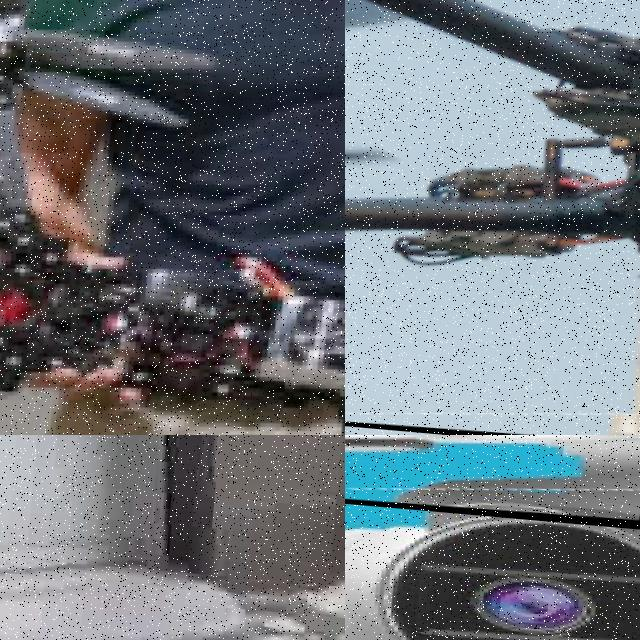drone: (0, 0, 345, 435), (345, 0, 640, 435), (345, 435, 640, 532)
